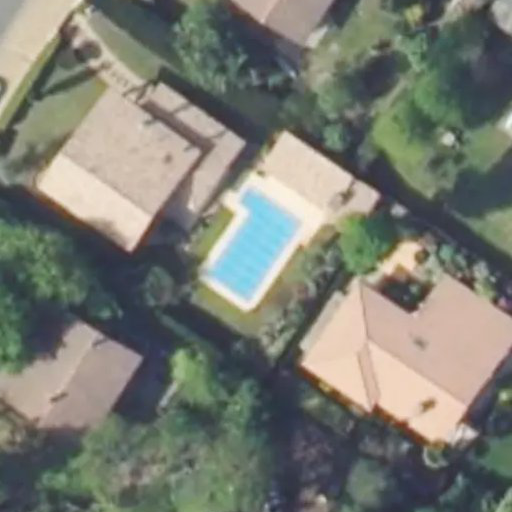pool: (211, 180, 295, 315)
